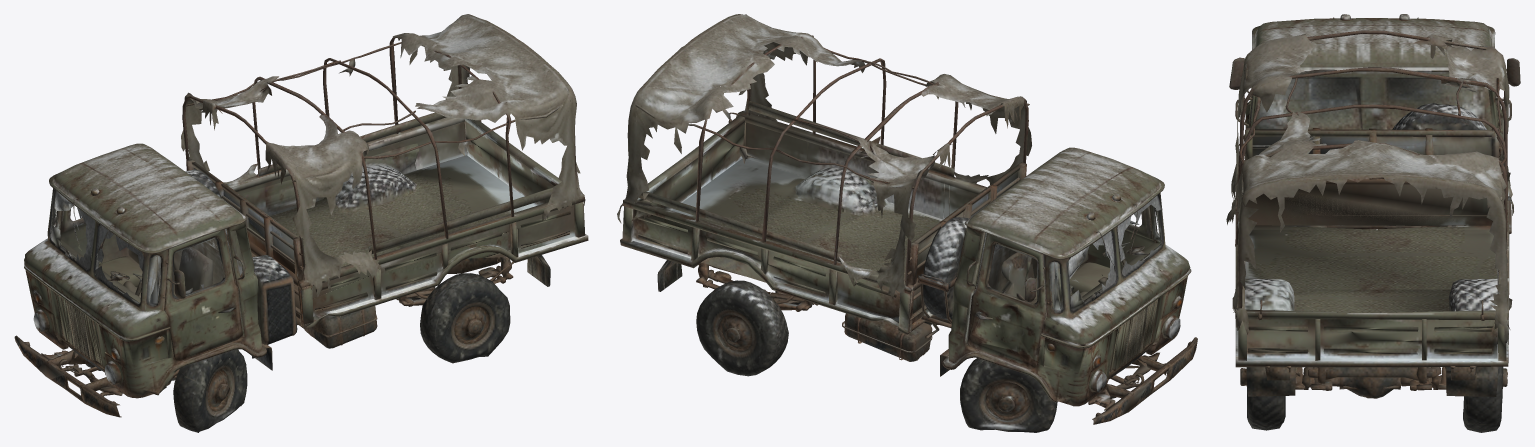
The model's file is road_army_truck.glb.
The picture shows the model from 3 angles, left to right: view 1: azimuth 30°, elevation 25°; view 2: azimuth 150°, elevation 25°; view 3: azimuth 270°, elevation 25°; orthographic projection. The views are drawn at different scales.
Bounding box in the file's own units: 0.9561 × 0.5195 × 0.4502.
1 material, 1 textured.
